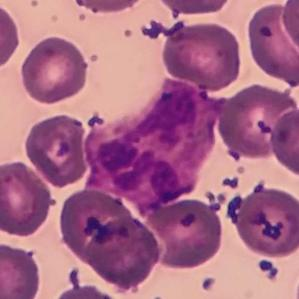Neutrophil: (87, 75, 229, 205)
Platelets: (141, 20, 164, 41), (256, 258, 278, 279), (200, 274, 218, 292), (221, 175, 240, 190), (293, 277, 298, 299), (150, 294, 166, 299)
RBC: (55, 187, 144, 268), (215, 81, 298, 161), (80, 212, 162, 292), (94, 149, 188, 217), (159, 18, 246, 91), (145, 194, 226, 272), (228, 180, 299, 260), (18, 34, 92, 106), (22, 111, 89, 188), (243, 1, 299, 88), (0, 158, 57, 238), (0, 239, 45, 299), (267, 105, 299, 179), (0, 1, 22, 73), (151, 0, 236, 17), (61, 0, 152, 15), (49, 282, 128, 299), (277, 0, 299, 60)
